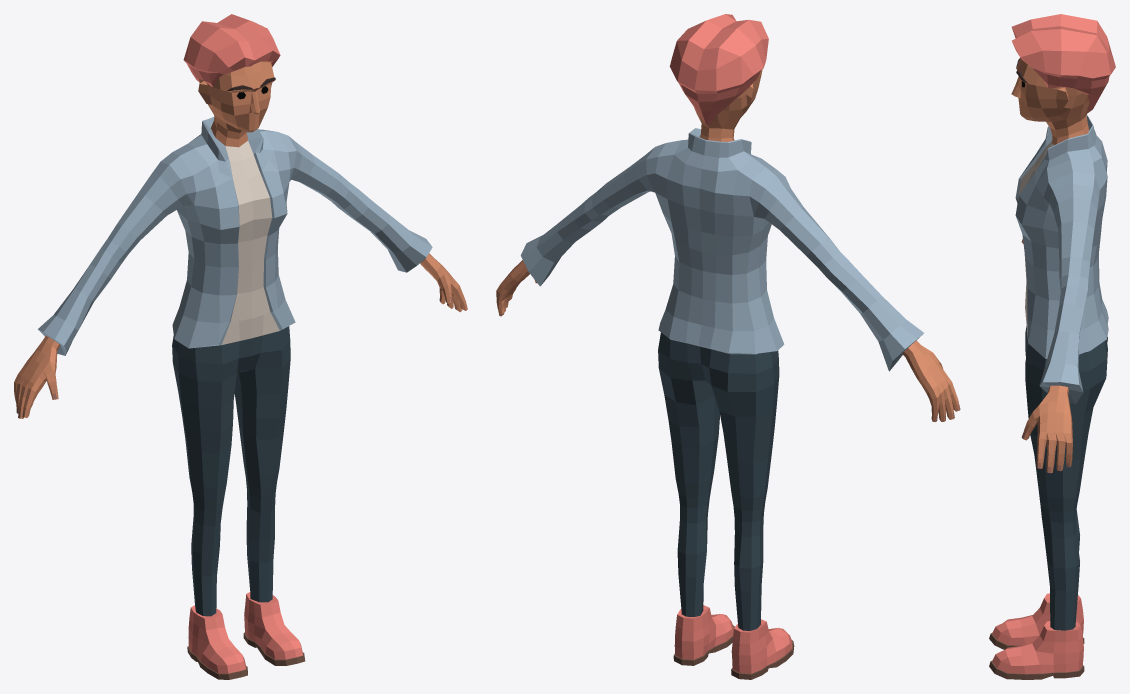
Rendered from PolyArt_Female_03.obj.
3 renders of one model, left to right at view 1: azimuth 30°, elevation 25°; view 2: azimuth 150°, elevation 25°; view 3: azimuth 270°, elevation 25°, orthographic. The views are drawn at different scales.
Visible parts, largest first — view 1: Body_03_Cube.018; view 2: Body_03_Cube.018; view 3: Body_03_Cube.018.
Boxes of the visible parts, <box> form: Body_03_Cube.018: <box>14,14,467,679</box>; Body_03_Cube.018: <box>496,14,960,679</box>; Body_03_Cube.018: <box>989,14,1115,679</box>.
Bounding box in the file's own units: 1.48 × 1.99 × 0.3592.
